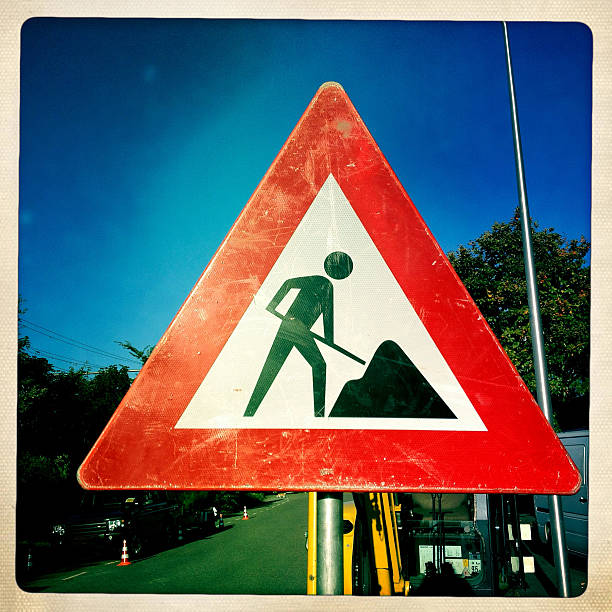yol_calismasi_levha: (83, 75, 587, 492)
